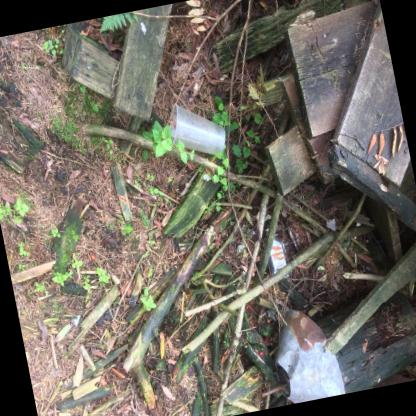Metal: (274, 309, 344, 403)
Plastic: (169, 102, 224, 155)
